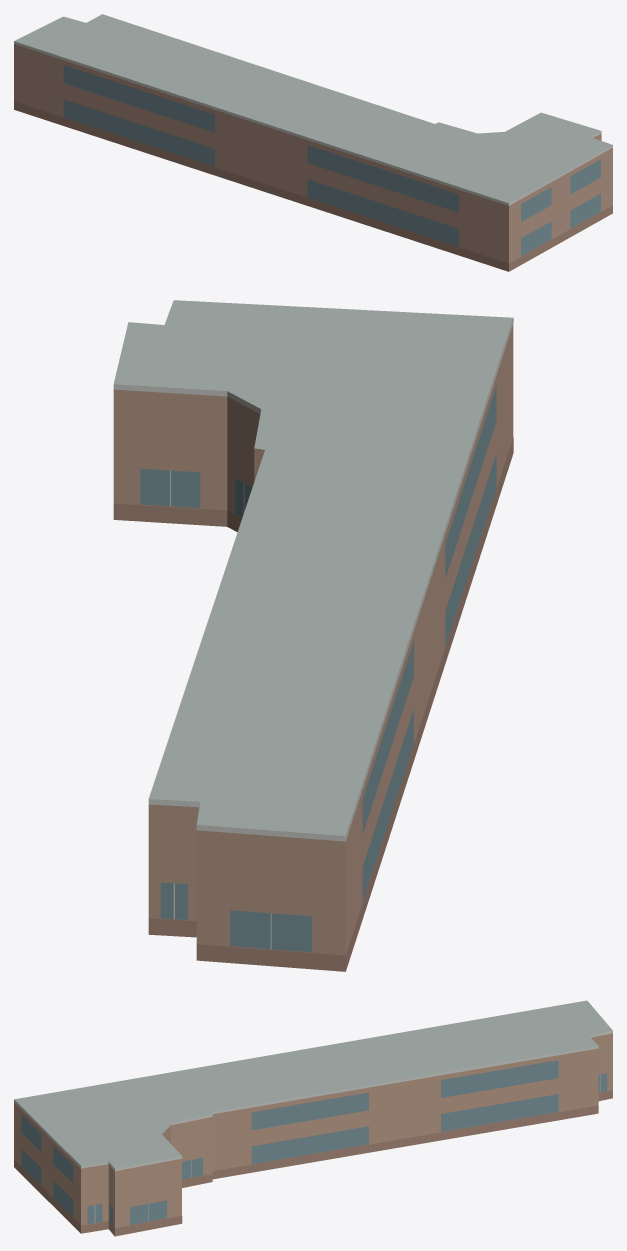
Rendered from survey-upis-32529539.glb.
3 renders of one model, top to bottom at view 1: azimuth 30°, elevation 25°; view 2: azimuth 150°, elevation 25°; view 3: azimuth 270°, elevation 25°, orthographic. The views are drawn at different scales.
Visible parts, largest first — view 1: survey-upis-32529539.tmp; view 2: survey-upis-32529539.tmp; view 3: survey-upis-32529539.tmp.
Boxes of the visible parts, x1=… form: survey-upis-32529539.tmp: x1=14, y1=14, x2=612, y2=271; survey-upis-32529539.tmp: x1=113, y1=300, x2=513, y2=971; survey-upis-32529539.tmp: x1=14, y1=1000, x2=612, y2=1236.
Size of the model in its own units: 32.48 by 6.1 by 48.83.
